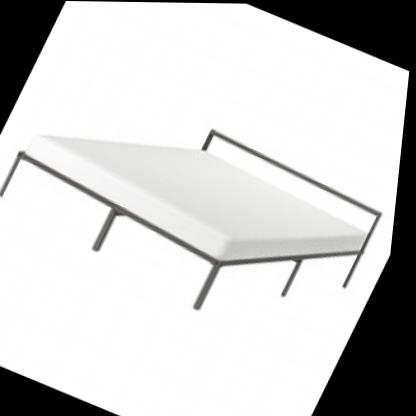Bed: (0, 18, 415, 366)
